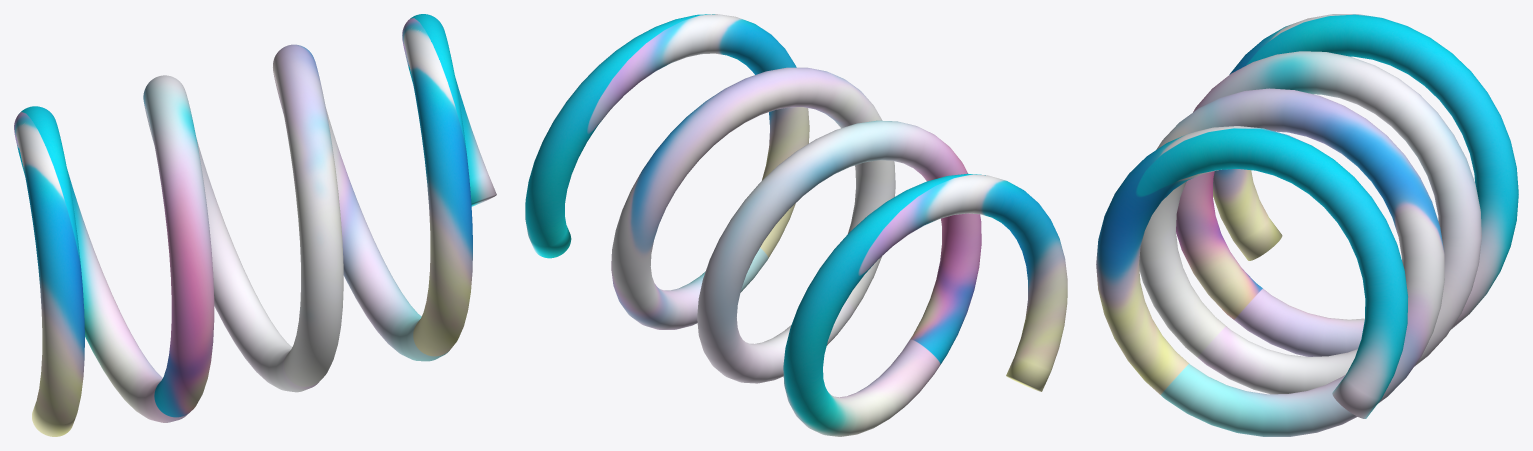
File: Prim_06.gltf
3 renders of one model, left to right at view 1: azimuth 30°, elevation 25°; view 2: azimuth 150°, elevation 25°; view 3: azimuth 270°, elevation 25°, orthographic. The views are drawn at different scales.
Visible parts, largest first — view 1: 006; view 2: 006; view 3: 006.
Boxes of the visible parts, x1=… form: 006: x1=14, y1=14, x2=496, y2=436; 006: x1=525, y1=14, x2=1067, y2=436; 006: x1=1096, y1=14, x2=1518, y2=436.
Bounding box in the file's own units: 102 × 66.27 × 72.65.
Materials: 1 (1 with a texture image).
